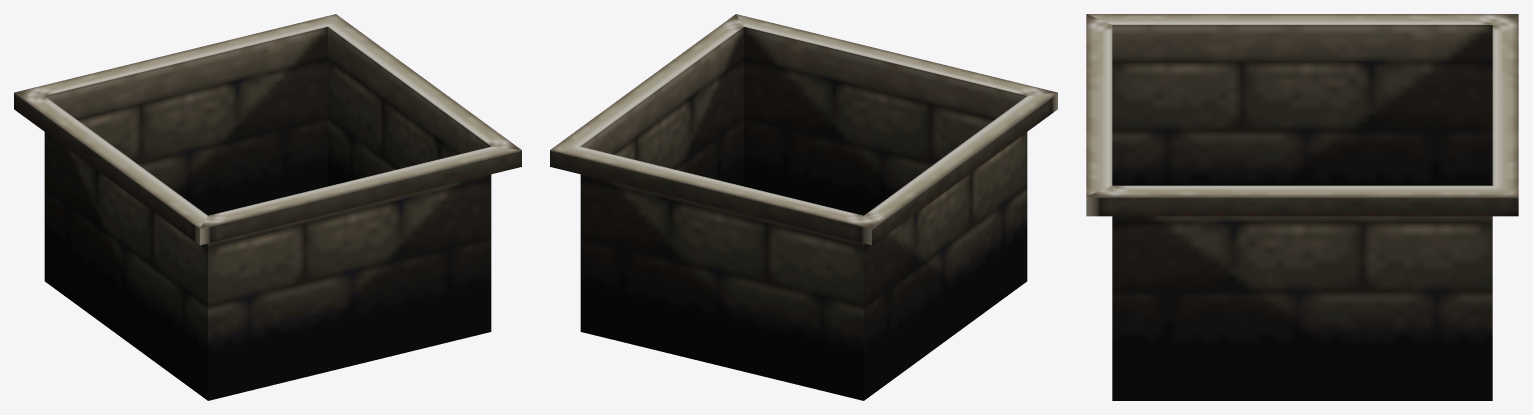
The model's file is Inside_Poly_Hole_01_Down.obj.
3 views of the same model, side by side, from view 1: azimuth 30°, elevation 25°; view 2: azimuth 150°, elevation 25°; view 3: azimuth 270°, elevation 25° (orthographic). The views are drawn at different scales.
Visible parts, largest first — view 1: Cube; view 2: Cube; view 3: Cube.
Part boxes in pixels (x1=…): Cube: x1=14, y1=14, x2=521, y2=400; Cube: x1=550, y1=14, x2=1057, y2=400; Cube: x1=1086, y1=14, x2=1518, y2=400.
Bounding box in the file's own units: 1 × 0.55 × 1.
1 material, 1 textured.
